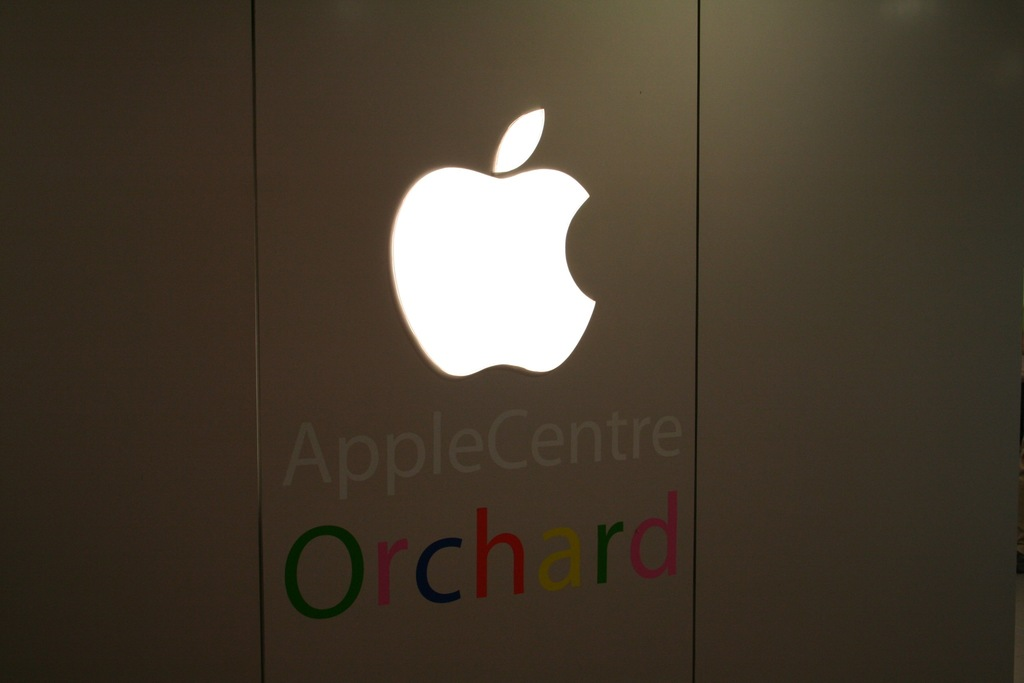Apple: (386, 104, 603, 376)
